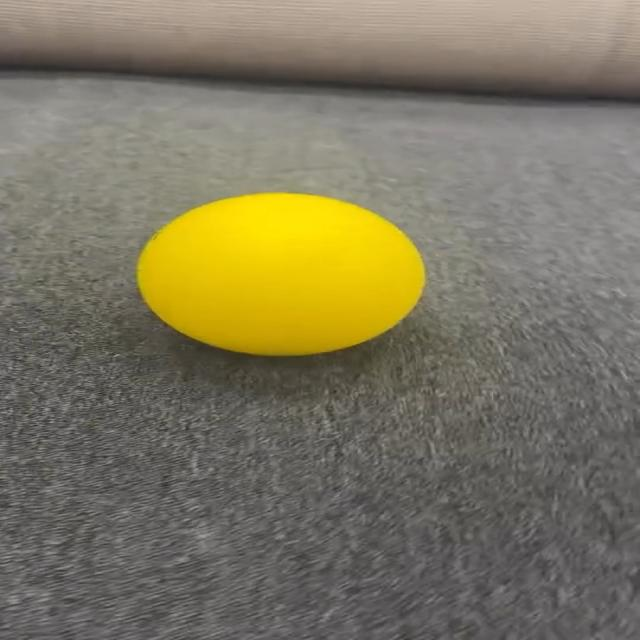Fuels: (139, 194, 422, 353)
